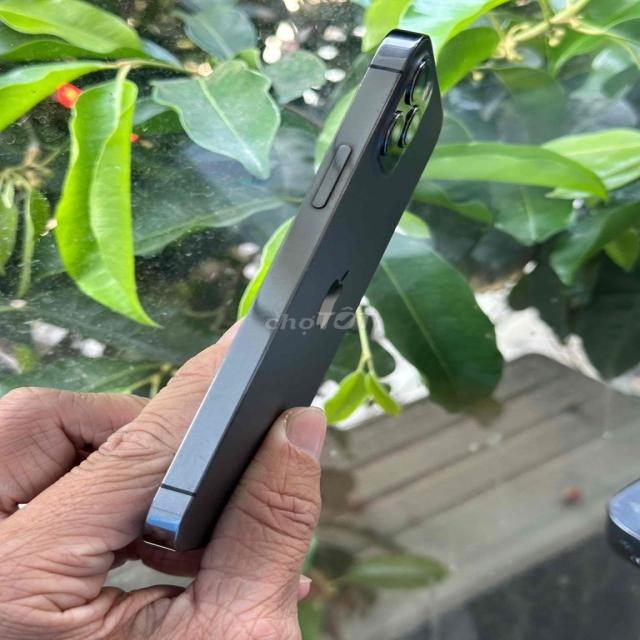gen_12_13: (132, 30, 452, 592)
